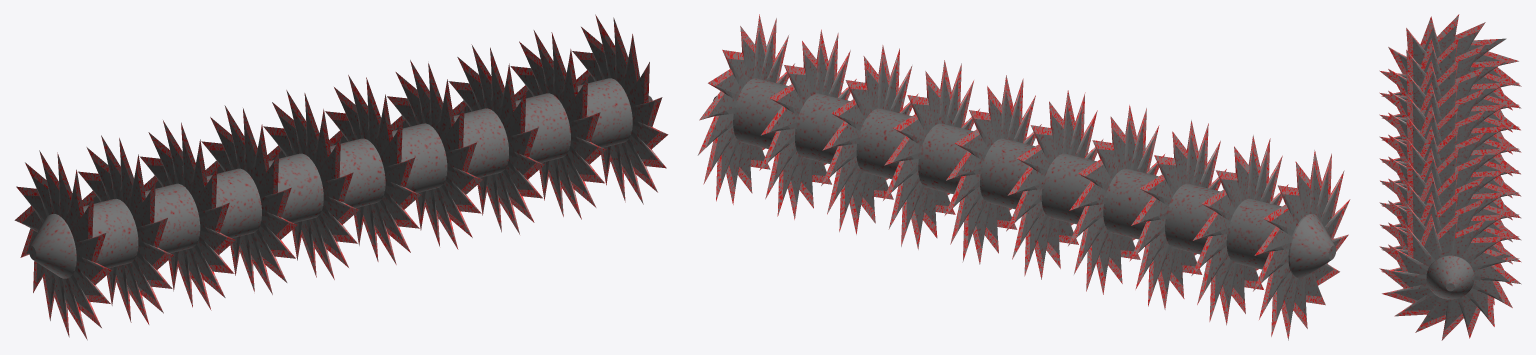
File: SpikeCylinder.fbx
The picture shows the model from 3 angles, left to right: view 1: azimuth 30°, elevation 25°; view 2: azimuth 150°, elevation 25°; view 3: azimuth 270°, elevation 25°; orthographic projection. The views are drawn at different scales.
Parts seen in each view (by area): view 1: Cylinder; view 2: Cylinder; view 3: Cylinder.
Boxes of the visible parts, x1,y1,x2,y2 form: Cylinder: (14, 14, 668, 340); Cylinder: (697, 14, 1350, 340); Cylinder: (1379, 14, 1521, 340).
Bounding box in the file's own units: 2155 × 592 × 592.
2 materials, 2 textured.
